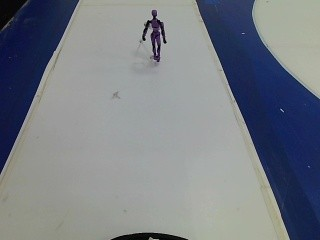pedestrian: (139, 9, 166, 62)
